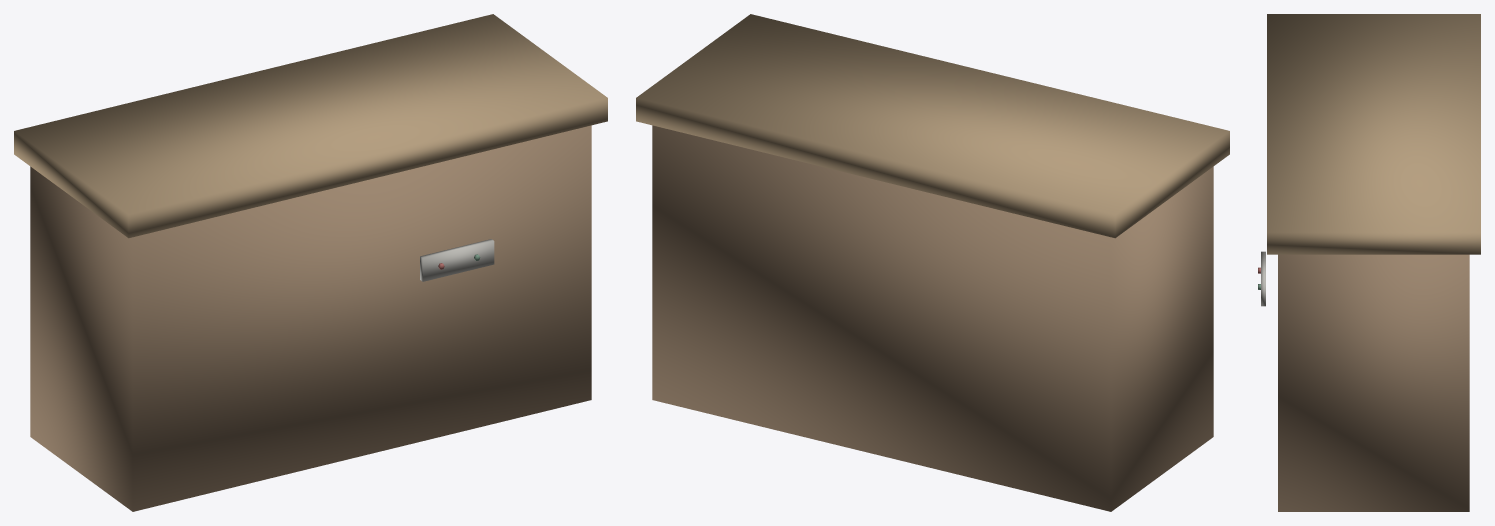
Rendered from florist_wrapping_counter__compact.glb.
3 renders of one model, left to right at view 1: azimuth 30°, elevation 25°; view 2: azimuth 150°, elevation 25°; view 3: azimuth 270°, elevation 25°, orthographic. The views are drawn at different scales.
Visible parts, largest first — view 1: world; view 2: world; view 3: world.
Part boxes in pixels (left/top/right/bottom): world: left=14, top=14, right=607, bottom=511; world: left=636, top=14, right=1229, bottom=511; world: left=1258, top=14, right=1480, bottom=511.
Size of the model in its own units: 1.58 by 0.9579 by 0.6803.
